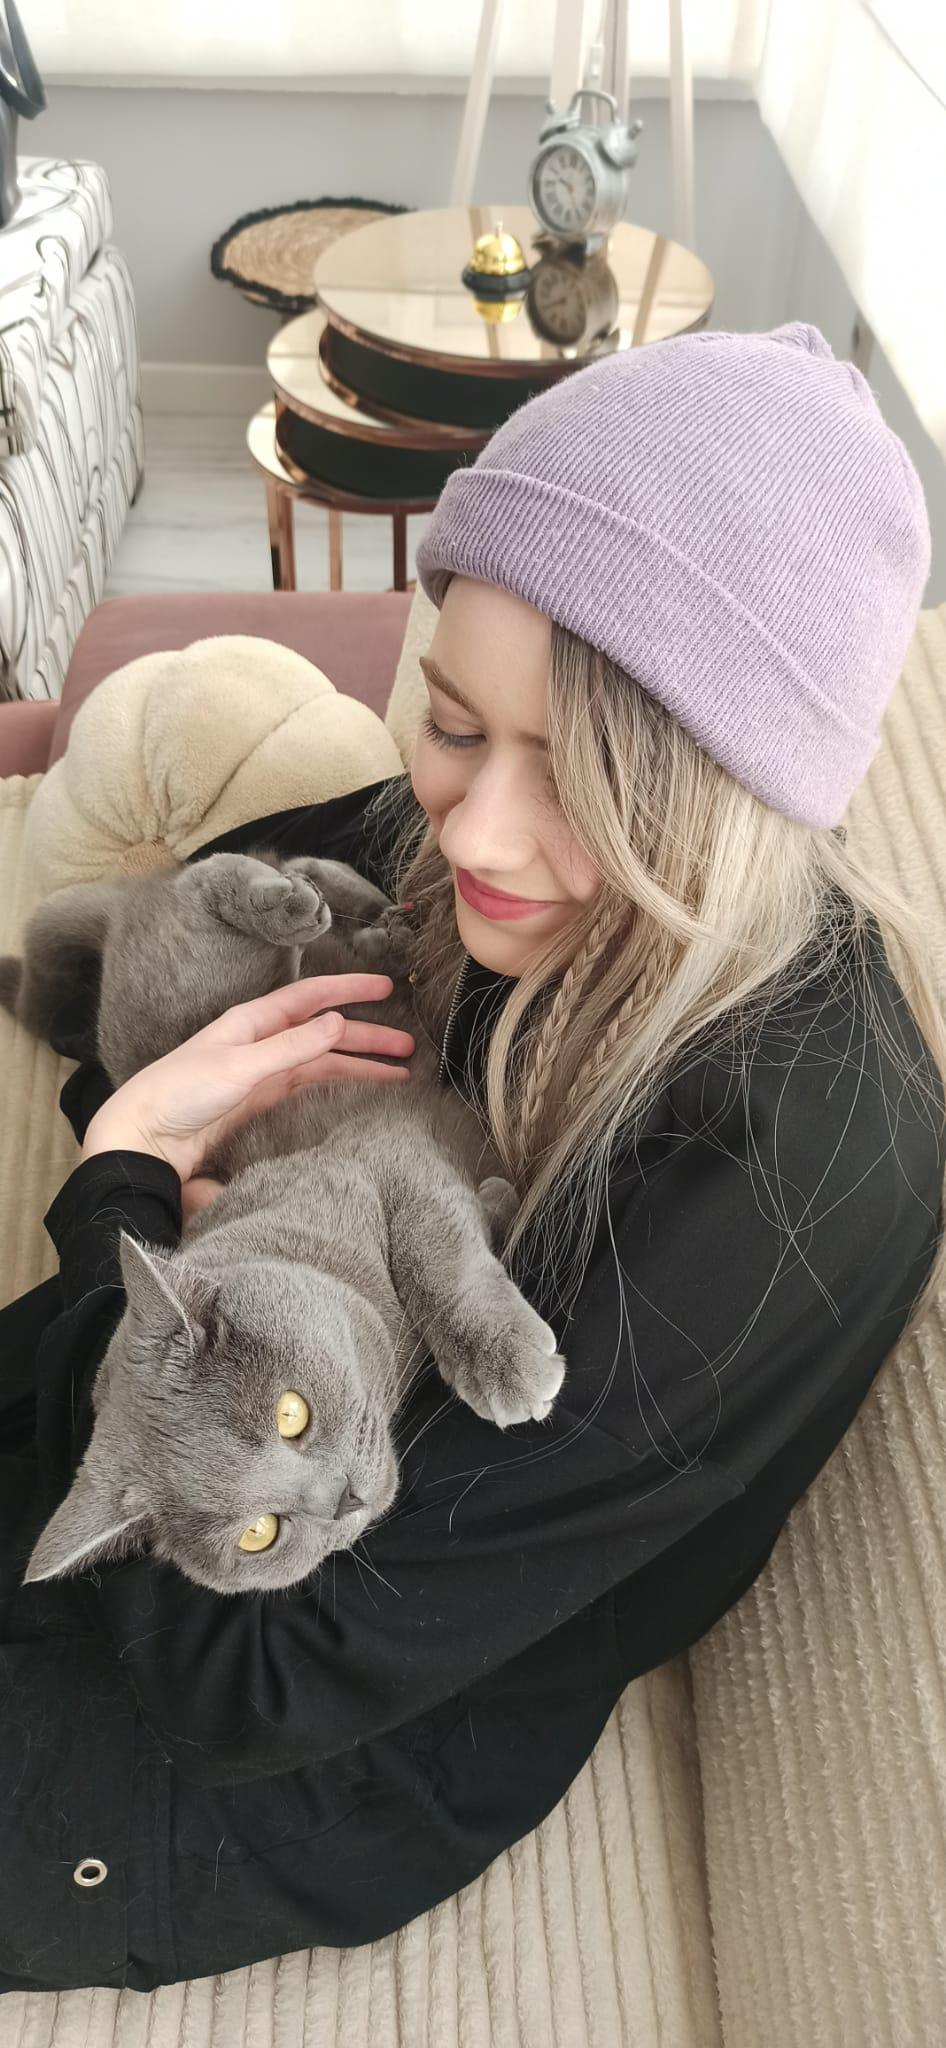kedo: (25, 1230, 563, 1595)
